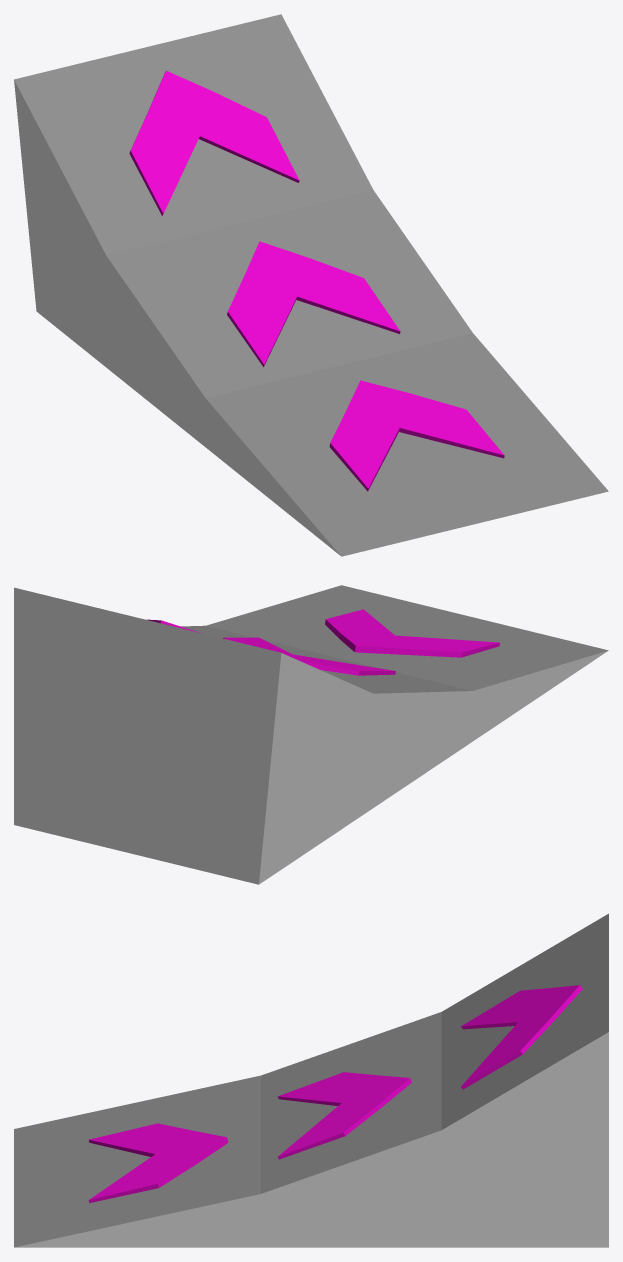
Rendered from RampWithArrows.fbx.
3 renders of one model, top to bottom at view 1: azimuth 30°, elevation 25°; view 2: azimuth 150°, elevation 25°; view 3: azimuth 270°, elevation 25°, orthographic. The views are drawn at different scales.
Parts seen in each view (by area): view 1: Cube, Cube.003, Cube.002, Cube.001; view 2: Cube, Cube.001, Cube.002; view 3: Cube, Cube.001, Cube.002, Cube.003.
Part boxes in pixels (x1,y1,x2,y2): Cube: [14, 14, 608, 556]; Cube.003: [129, 70, 299, 215]; Cube.002: [227, 241, 400, 366]; Cube.001: [329, 380, 504, 491]; Cube: [14, 585, 608, 884]; Cube.001: [325, 609, 499, 657]; Cube.002: [223, 637, 395, 675]; Cube: [14, 913, 608, 1247]; Cube.001: [88, 1123, 228, 1202]; Cube.002: [277, 1072, 411, 1159]; Cube.003: [461, 985, 582, 1089].
Size of the model in its own units: 236 by 200 by 500.
